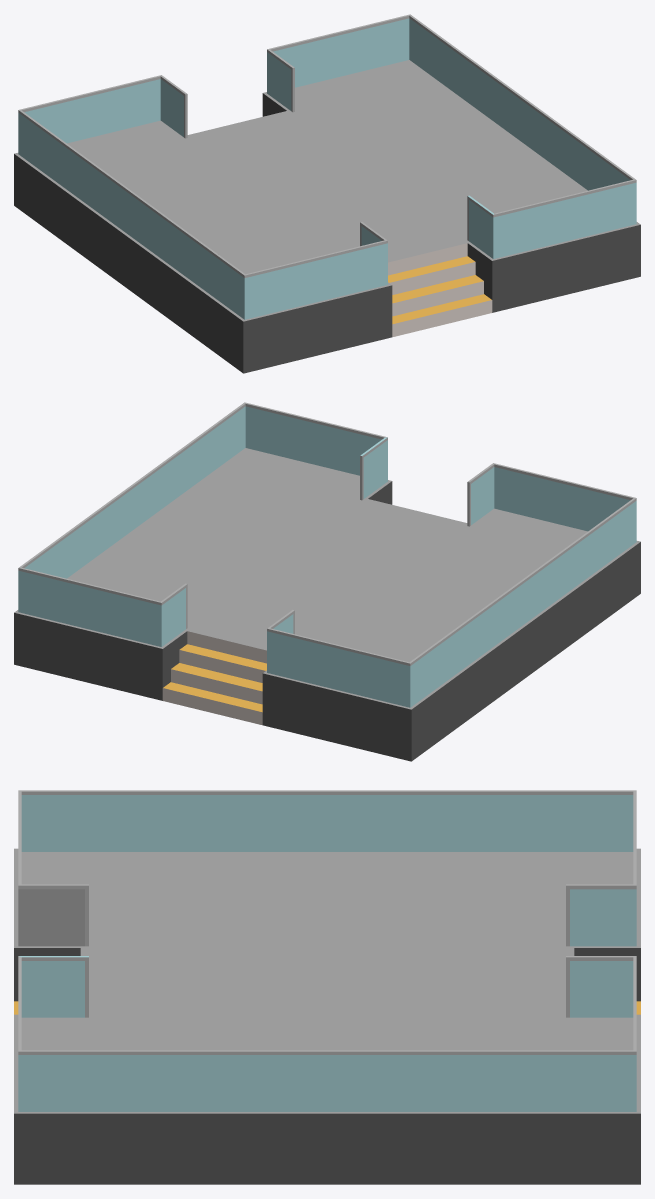
The model's file is Platform_Raised.fbx.
3 views of the same model, one above another, from view 1: azimuth 30°, elevation 25°; view 2: azimuth 150°, elevation 25°; view 3: azimuth 270°, elevation 25° (orthographic). The views are drawn at different scales.
Visible parts, largest first — view 1: Cube; view 2: Cube; view 3: Cube.
Boxes of the visible parts, x1,y1,x2,y2 form: Cube: (14,14,640,373); Cube: (14,402,640,761); Cube: (14,790,640,1184).
Size of the model in its own units: 800 by 185 by 800.
